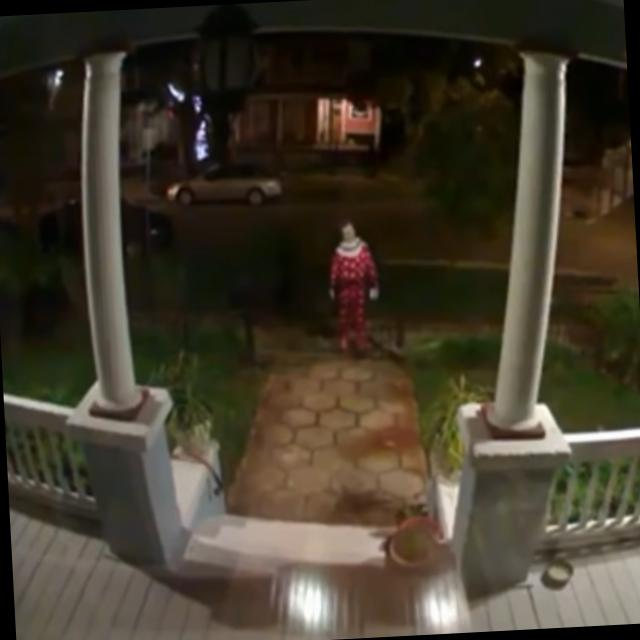person: (323, 217, 384, 356)
